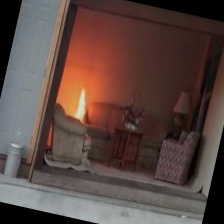fire: (63, 82, 98, 126)
